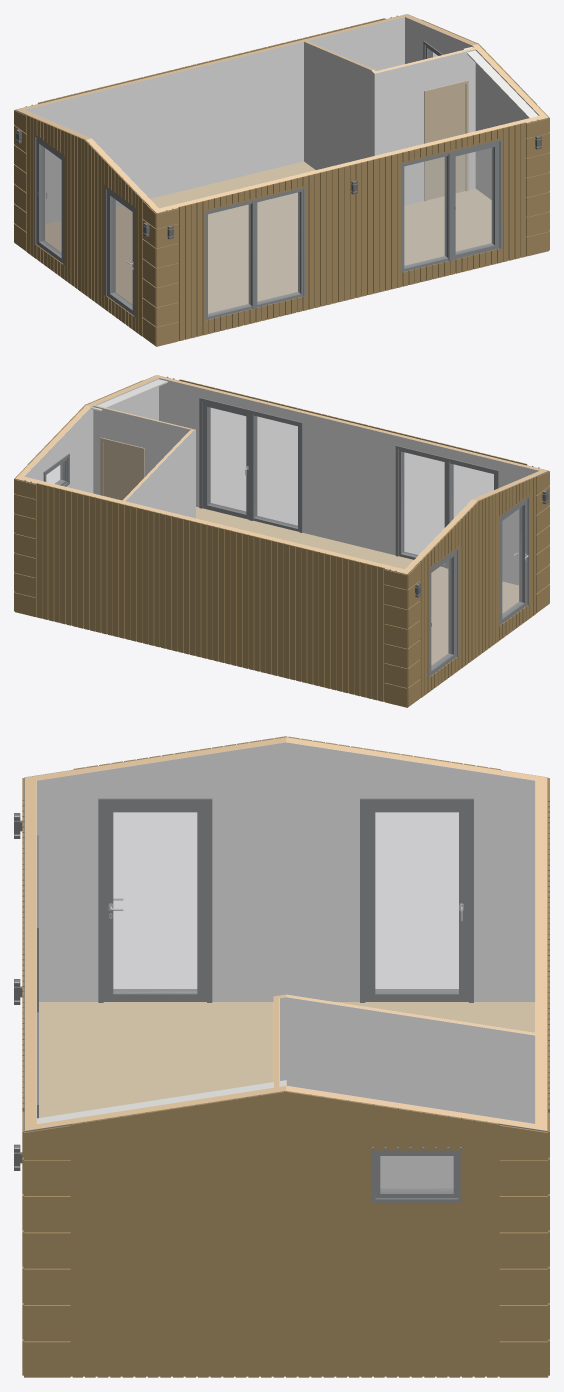
Rendered from ukis@darzelisziedas.fbx.
3 views of the same model, one above another, from view 1: azimuth 30°, elevation 25°; view 2: azimuth 150°, elevation 25°; view 3: azimuth 270°, elevation 25° (orthographic). The views are drawn at different scales.
Parts seen in each view (by area): view 1: IfcWall/Part:2663462, IfcSlab/Part:2663543, IfcWall/Part:2679602, IfcWall/Part:2663506, IfcBuildingElementProxy/Kampai Kvadratiniai - line based:Ru. (×3), IfcWindow/Langai (Akrusta):1000x2100x120 (kairinis):2669885, IfcWindow/Langai (Akrusta):1000x2100x120:2663652, IfcWindow/Langai (Akrusta):1000x2100x120:2726057, IfcWindow/Langai (Akrusta):1000x2100x120:2725994, IfcWall/Part:2663456, IfcDoor/Durys vidinės:800x2100 x 120 (kairinės):2663563, IfcDoor/Durys išorinės:1000x2100x120 (kairinės):2663558 (+49 smaller); view 2: IfcWall/Part:2663453, IfcBuildingElementProxy/Kampai Kvadratiniai - line based:Ru. (×4), IfcWindow/Langai (Akrusta):1000x2100x120 (kairinis):2669885, IfcWindow/Langai (Akrusta):1000x2100x120:2726057, IfcWindow/Langai (Akrusta):1000x2100x120:2663652, IfcSlab/Part:2663543, IfcWall/Part:2663456, IfcWall/Part:2663507, IfcDoor/Durys išorinės:1000x2100x120 (kairinės):2663558, IfcWindow/Langai (Akrusta):1000x2100x120 (kairinis):2663561, IfcWall/Part:2679602, IfcDoor/Durys vidinės:800x2100 x 120 (kairinės):2663563 (+83 smaller); view 3: IfcWall/Part:2663459, IfcSlab/Part:2663543, IfcWall/Part:2679603, IfcDoor/Durys išorinės:1000x2100x120 (kairinės):2663558, IfcWindow/Langai (Akrusta):1000x2100x120 (kairinis):2663561, IfcMember/Rectangular Mullion:Tašelio imitacijos intarpas .2 (×16), IfcBuildingElementProxy/Kampai Kvadratiniai - line based:Ru, IfcBuildingElementProxy/Kampai Kvadratiniai - line based:Ru., IfcWindow/Langai (Akrusta):800x500x120 (atverciamas):2728844, IfcWall/Part:2663464, IfcWall/Part:2663455, IfcPlate/System Panel:Tašelio imitacija - Ruda:2733349 (+39 smaller).
Boxes of the visible parts, x1,y1,x2,y2 form: IfcWall/Part:2663462: [24, 17, 404, 224]; IfcSlab/Part:2663543: [45, 161, 491, 313]; IfcWall/Part:2679602: [304, 41, 374, 169]; IfcWall/Part:2663506: [374, 49, 475, 205]; IfcBuildingElementProxy/Kampai Kvadratiniai - line based:Ru. (×3): [14, 110, 178, 346]; IfcWindow/Langai (Akrusta):1000x2100x120 (kairinis):2669885: [444, 138, 502, 261]; IfcWindow/Langai (Akrusta):1000x2100x120:2663652: [248, 186, 306, 308]; IfcWindow/Langai (Akrusta):1000x2100x120:2726057: [400, 151, 453, 272]; IfcWindow/Langai (Akrusta):1000x2100x120:2725994: [204, 199, 257, 320]; IfcWall/Part:2663456: [405, 17, 539, 199]; IfcDoor/Durys vidinės:800x2100 x 120 (kairinės):2663563: [424, 80, 468, 201]; IfcDoor/Durys išorinės:1000x2100x120 (kairinės):2663558: [104, 185, 135, 317]; IfcWall/Part:2663453: [159, 378, 539, 585]; IfcBuildingElementProxy/Kampai Kvadratiniai - line based:Ru. (×4): [14, 471, 549, 707]; IfcWindow/Langai (Akrusta):1000x2100x120 (kairinis):2669885: [199, 397, 257, 520]; IfcWindow/Langai (Akrusta):1000x2100x120:2726057: [248, 410, 302, 532]; IfcWindow/Langai (Akrusta):1000x2100x120:2663652: [395, 445, 453, 568]; IfcSlab/Part:2663543: [196, 507, 518, 665]; IfcWall/Part:2663456: [24, 378, 158, 493]; IfcWall/Part:2663507: [93, 406, 190, 494]; IfcDoor/Durys išorinės:1000x2100x120 (kairinės):2663558: [499, 494, 529, 626]; IfcWindow/Langai (Akrusta):1000x2100x120 (kairinis):2663561: [428, 546, 459, 678]; IfcWall/Part:2679602: [125, 430, 195, 518]; IfcDoor/Durys vidinės:800x2100 x 120 (kairinės):2663563: [100, 437, 144, 500]; IfcWall/Part:2663459: [37, 742, 535, 1001]; IfcSlab/Part:2663543: [39, 1002, 535, 1117]; IfcWall/Part:2679603: [280, 997, 535, 1188]; IfcDoor/Durys išorinės:1000x2100x120 (kairinės):2663558: [98, 798, 212, 1002]; IfcWindow/Langai (Akrusta):1000x2100x120 (kairinis):2663561: [360, 798, 473, 1002]; IfcMember/Rectangular Mullion:Tašelio imitacijos intarpas .2 (×16): [70, 1092, 499, 1376]; IfcBuildingElementProxy/Kampai Kvadratiniai - line based:Ru: [499, 1125, 547, 1377]; IfcBuildingElementProxy/Kampai Kvadratiniai - line based:Ru.: [24, 1125, 70, 1377]; IfcWindow/Langai (Akrusta):800x500x120 (atverciamas):2728844: [372, 1147, 461, 1203]; IfcWall/Part:2663464: [535, 775, 547, 1130]; IfcWall/Part:2663455: [25, 775, 36, 1130]; IfcPlate/System Panel:Tašelio imitacija - Ruda:2733349: [298, 1093, 310, 1377].
Bounding box in the file's own units: 812 × 302 × 512.
